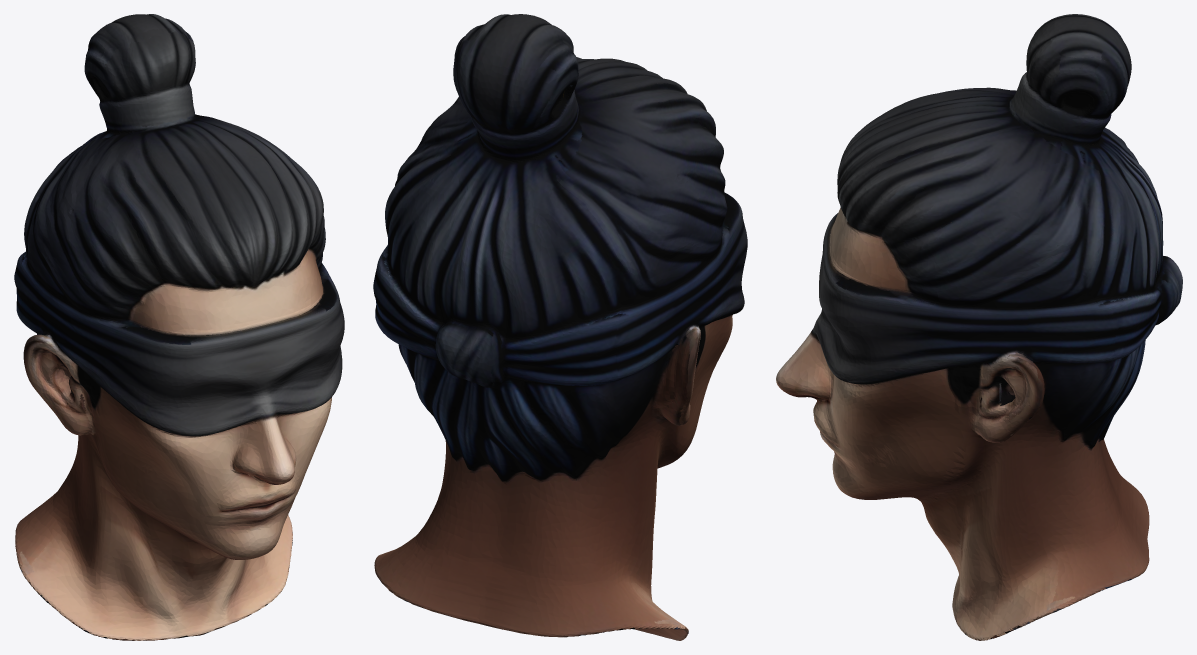
Rendered from hero_head_raw.glb.
3 renders of one model, left to right at view 1: azimuth 30°, elevation 25°; view 2: azimuth 150°, elevation 25°; view 3: azimuth 270°, elevation 25°, orthographic. The views are drawn at different scales.
Parts seen in each view (by area): view 1: tmp0satutvj.ply; view 2: tmp0satutvj.ply; view 3: tmp0satutvj.ply.
Part boxes in pixels (bbox=[...]): tmp0satutvj.ply: bbox=[14, 14, 344, 640]; tmp0satutvj.ply: bbox=[373, 14, 747, 640]; tmp0satutvj.ply: bbox=[776, 14, 1182, 640].
Size of the model in its own units: 0.9947 by 1.99 by 1.26.
Materials: 1 (1 with a texture image).
